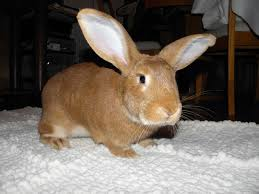bunny: (26, 2, 221, 164)
